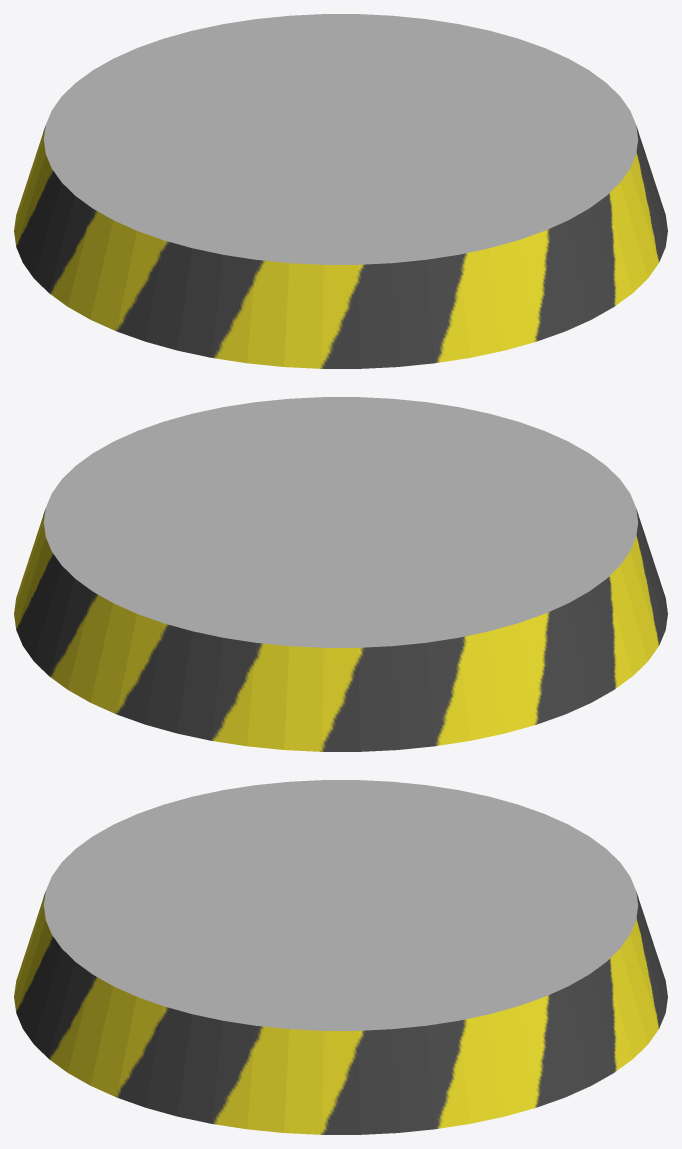
File: HeroStand.fbx
3 renders of one model, top to bottom at view 1: azimuth 30°, elevation 25°; view 2: azimuth 150°, elevation 25°; view 3: azimuth 270°, elevation 25°, orthographic.
Parts seen in each view (by area): view 1: Cylinder; view 2: Cylinder; view 3: Cylinder.
Part boxes in pixels (x1=…): Cylinder: x1=14, y1=14, x2=667, y2=368; Cylinder: x1=14, y1=397, x2=667, y2=751; Cylinder: x1=14, y1=780, x2=667, y2=1134.
Size of the model in its own units: 349 by 54.03 by 350.
Materials: 2 (1 with a texture image).
